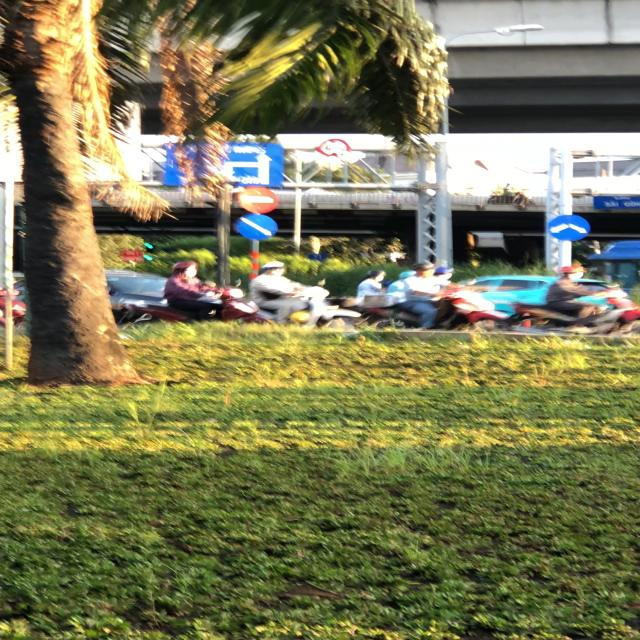Bien bao cam di nguoc chieu: (234, 184, 284, 213)
Bien bao huong phai di vong chuong ngai vat: (544, 210, 593, 243), (235, 214, 281, 242)
